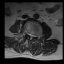CCS_normal: (30, 32, 31, 41)
LFS_stenosis: (34, 33, 36, 38)
LLS_normal: (31, 33, 33, 39)
RFS_normal: (27, 31, 28, 36)
RLS_normal: (28, 32, 30, 38)
